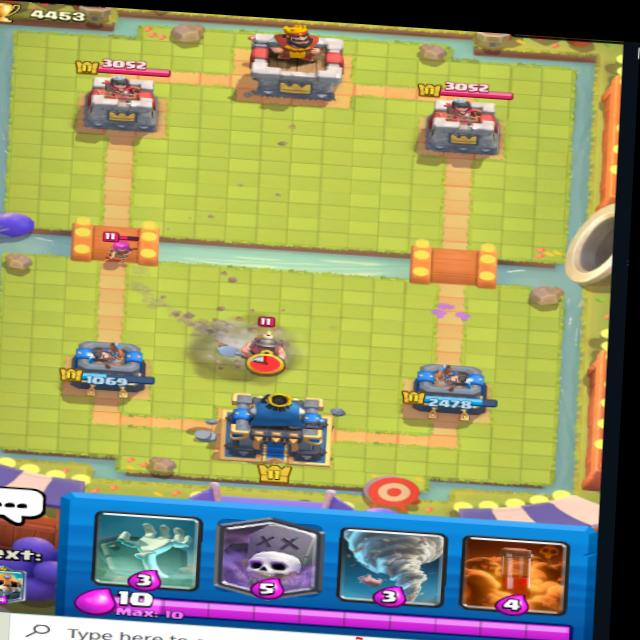archer: (85, 223, 146, 269)
miner: (212, 318, 295, 388)
